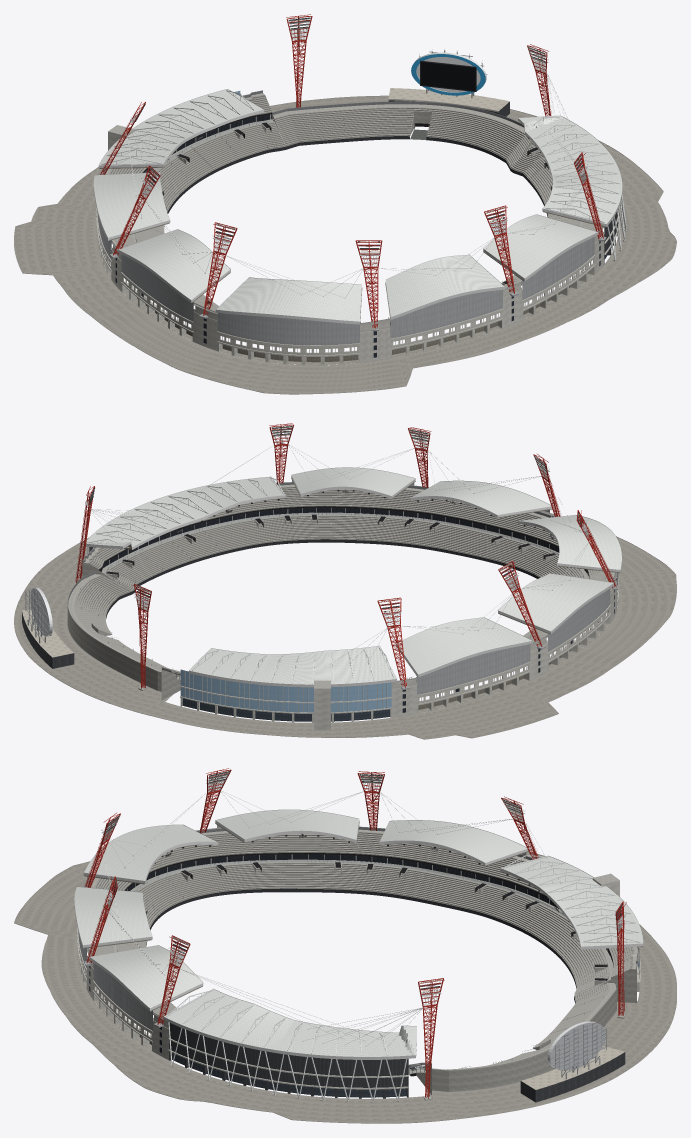
File: engie_part1.glb
The picture shows the model from 3 angles, top to bottom: view 1: azimuth 30°, elevation 25°; view 2: azimuth 150°, elevation 25°; view 3: azimuth 270°, elevation 25°; orthographic projection. The views are drawn at different scales.
Visible parts, largest first — view 1: roofs, apron, facades, bowl, light_towers, scoreboard; view 2: roofs, bowl, apron, facades, light_towers, scoreboard, suites, vomitories; view 3: roofs, bowl, apron, facades, light_towers, scoreboard, suites, vomitories, aisles.
Boxes of the visible parts, x1,y1,x2,y2 form: roofs: (93, 73, 622, 324); apron: (14, 95, 676, 394); facades: (96, 91, 627, 365); bowl: (101, 90, 604, 325); light_towers: (100, 14, 606, 331); scoreboard: (388, 49, 509, 116); roofs: (83, 444, 621, 687); bowl: (67, 482, 616, 700); apron: (14, 536, 676, 739); facades: (87, 480, 619, 730); light_towers: (75, 423, 618, 690); scoreboard: (22, 587, 74, 668); suites: (100, 507, 588, 682); vomitories: (106, 513, 556, 677); roofs: (74, 790, 643, 1059); bowl: (83, 826, 639, 1095); apron: (14, 851, 676, 1123); facades: (77, 825, 640, 1102); light_towers: (84, 768, 626, 1100); scoreboard: (520, 1021, 625, 1102); suites: (116, 854, 613, 1073); vomitories: (180, 860, 607, 1076); aisles: (96, 830, 630, 1069).
Size of the model in its own units: 256 by 46.17 by 250.
Materials: 45 (45 with a texture image).
